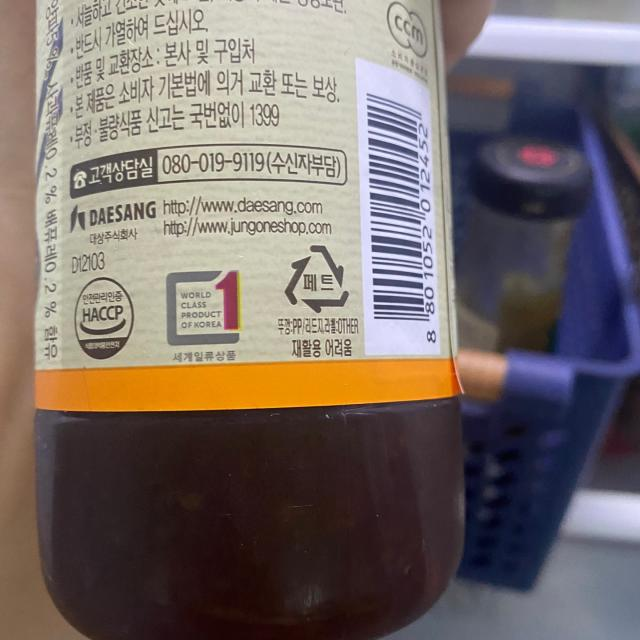PET: (282, 237, 356, 317)
